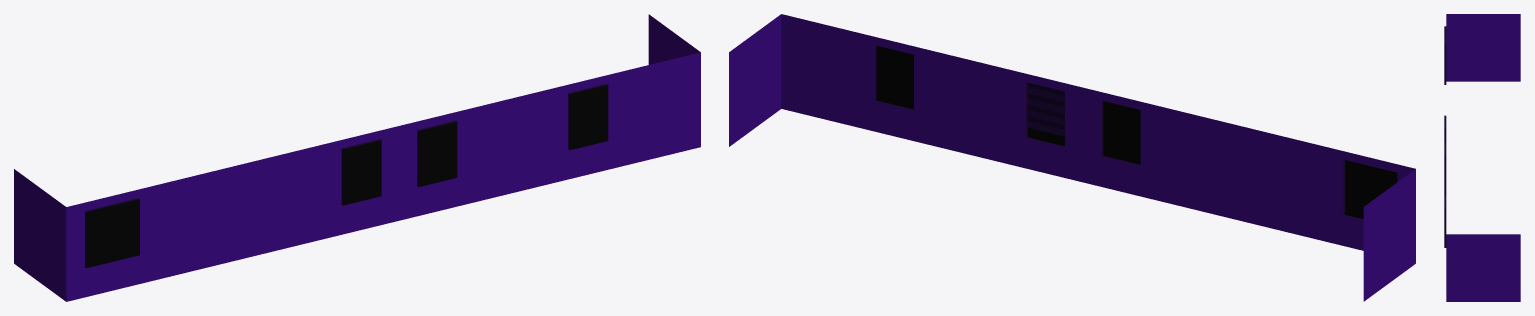
Rendered from DecorativePartLong2.fbx.
The picture shows the model from 3 angles, left to right: view 1: azimuth 30°, elevation 25°; view 2: azimuth 150°, elevation 25°; view 3: azimuth 270°, elevation 25°; orthographic projection. The views are drawn at different scales.
Visible parts, largest first — view 1: Plane.013; view 2: Plane.013; view 3: Plane.013.
Part boxes in pixels (x1,y1,x2,y2): Plane.013: (14, 14, 700, 301); Plane.013: (729, 14, 1415, 301); Plane.013: (1444, 14, 1520, 301).
Size of the model in its own units: 14000 by 2000 by 2055.
